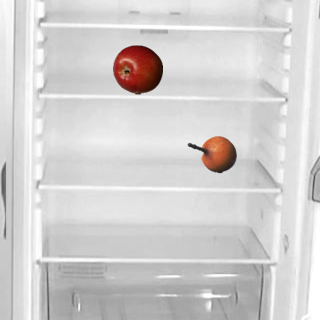Apple Braeburn: (112, 44, 162, 94)
Granadilla: (186, 129, 236, 179)
